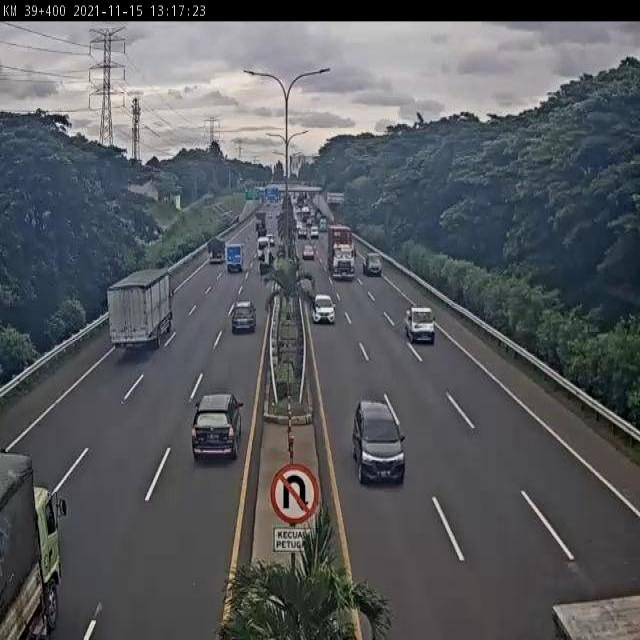Car: (351, 402, 407, 485), (191, 392, 244, 461), (404, 306, 436, 344), (230, 300, 258, 334), (310, 293, 336, 325), (363, 253, 382, 277), (302, 244, 314, 260), (310, 226, 319, 239)
Truck: (0, 449, 69, 640), (108, 269, 176, 352), (327, 225, 356, 279), (225, 244, 244, 274)
